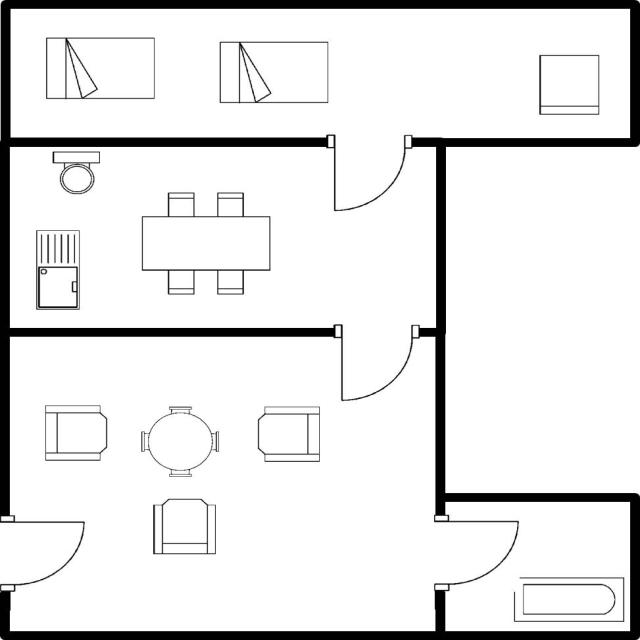armchair: (147, 493, 221, 560), (250, 402, 324, 466), (41, 401, 110, 465)
bed: (40, 32, 158, 104), (215, 36, 332, 107)
dining_table: (136, 184, 275, 298)
large_sink: (46, 146, 104, 199)
round_table: (134, 401, 226, 480)
sink: (32, 225, 83, 312)
small_sofa: (534, 50, 603, 120)
tub: (509, 572, 626, 627)
